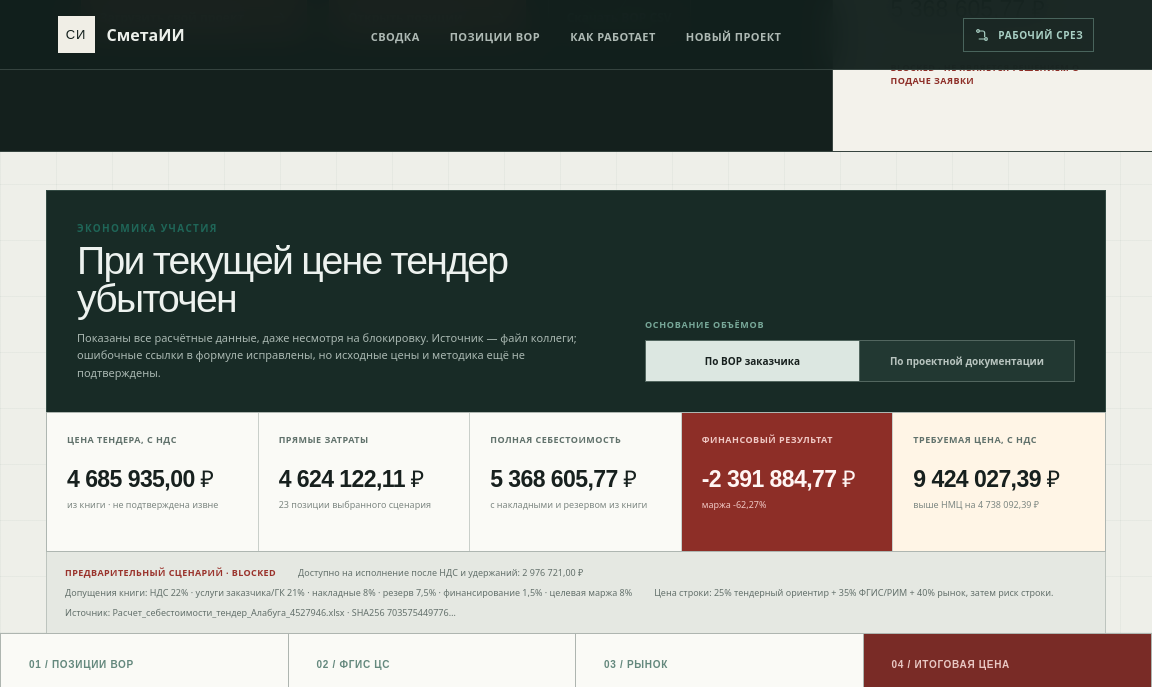
public project workbench › switches the quantities and recalculates the tender result
(page scrolled)
Click the button "По проектной документации". click: (967, 360)
box: [860,340,1074,380]
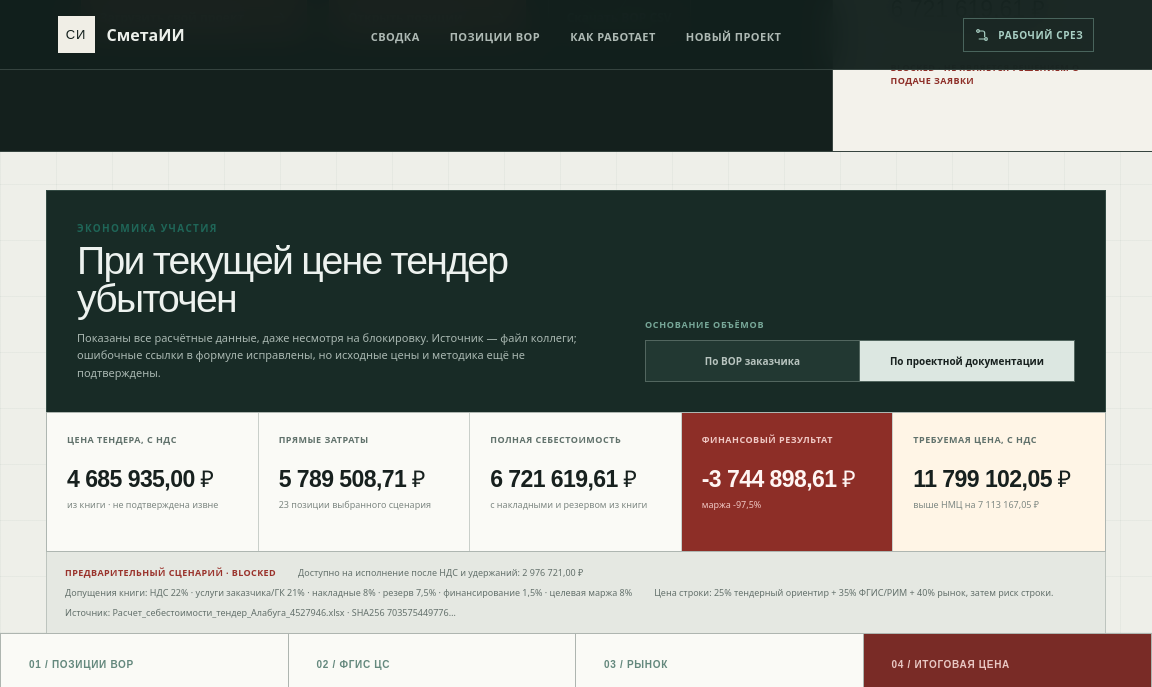
Expected: the text "маржа -97,5%" is shown, [702,498,761,511]
